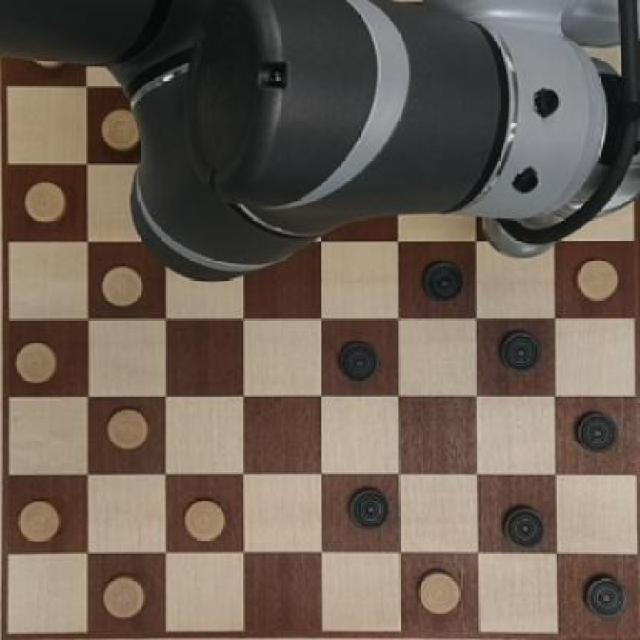black: (576, 564, 636, 623), (568, 406, 627, 459), (331, 329, 384, 383), (342, 482, 389, 534), (420, 252, 462, 308), (499, 500, 544, 551), (500, 328, 542, 374)
white: (413, 564, 466, 622), (22, 171, 67, 237), (8, 336, 60, 388), (100, 569, 150, 621), (180, 493, 232, 543), (99, 262, 148, 315), (573, 254, 620, 307), (16, 497, 62, 547), (103, 404, 150, 452), (97, 108, 137, 156)
